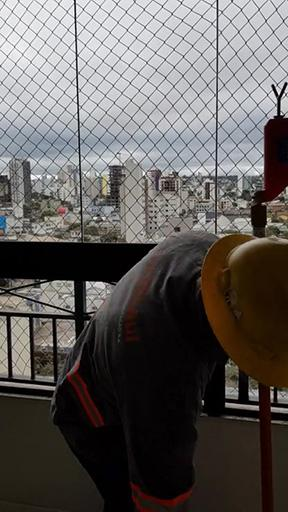Detector_Tensao_Contato: (262, 81, 288, 202)
Vara_Manobra: (249, 190, 276, 512)
